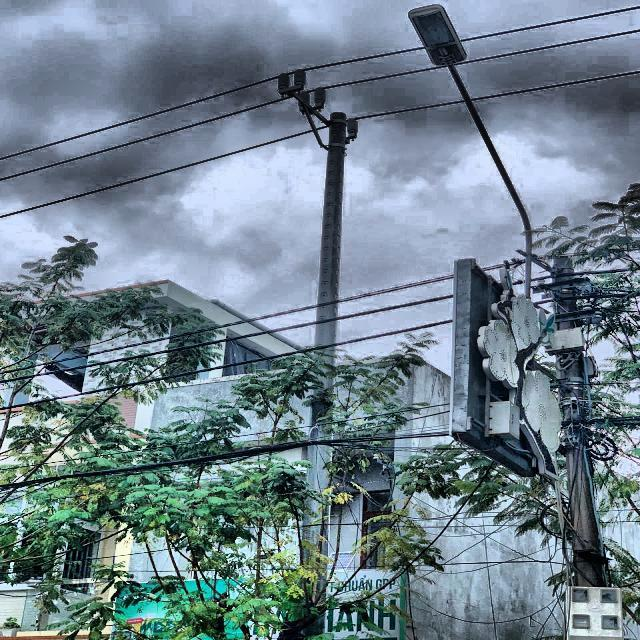crossarm: (279, 82, 331, 126)
pole: (299, 115, 350, 640), (551, 252, 610, 588)
wire: (0, 7, 640, 165), (1, 26, 640, 180), (2, 70, 640, 218), (0, 321, 452, 410), (0, 296, 453, 383), (46, 276, 452, 364), (0, 433, 450, 490), (7, 364, 42, 374)
